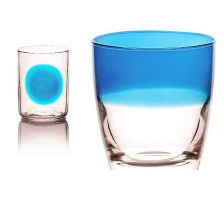glass: (85, 24, 219, 177), (13, 42, 69, 123)
